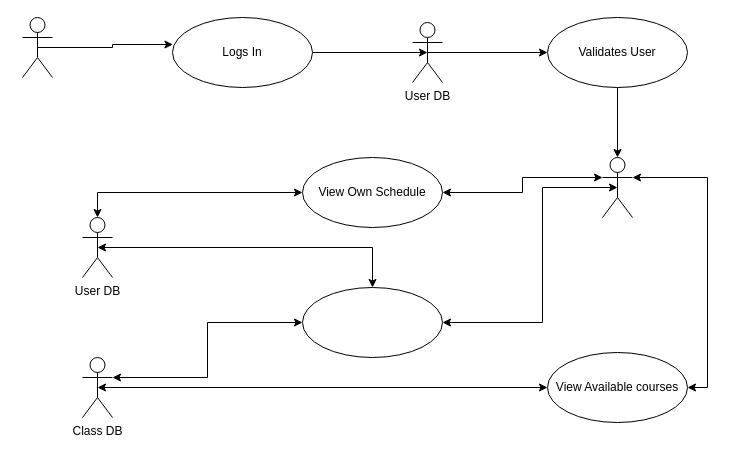
The diagram is 734 pixels wide and 456 high, and some of its shapes have lost their labels. The shapes that lost their labels are listed below. From the top down, each one's box as (x1, y1, x2, y2) in pixels, then its label:
(22, 16, 52, 78): Student
(602, 156, 632, 218): CURSE (Main Menu)
(302, 286, 442, 358): Register
